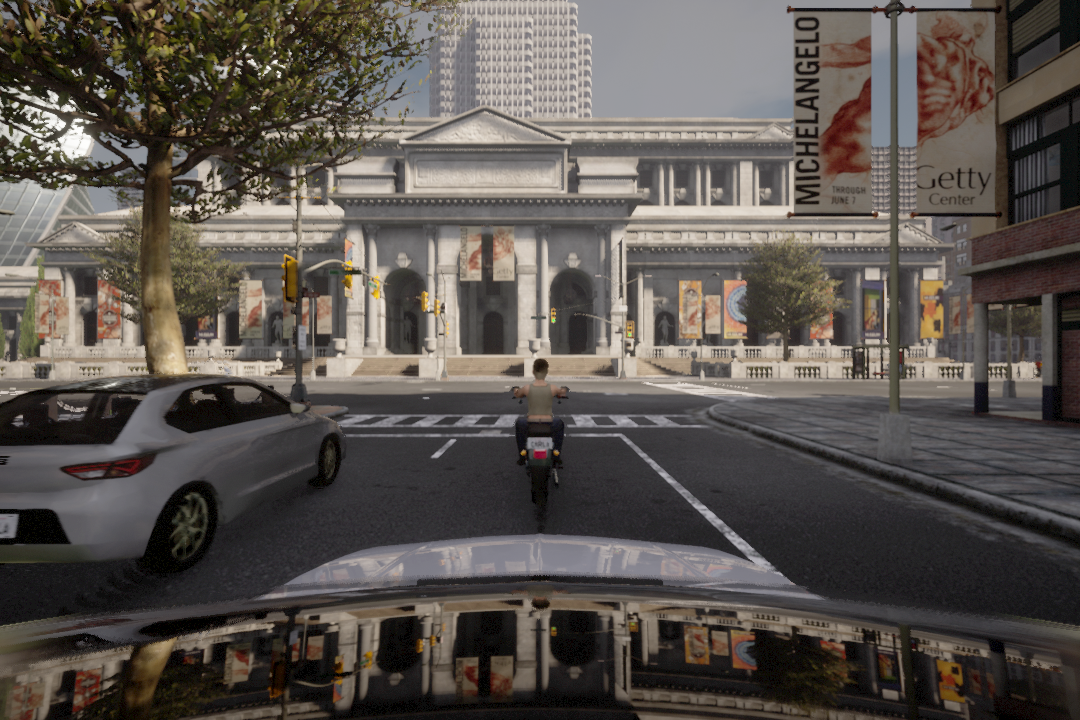TrafficLight: (626, 322, 637, 346), (547, 307, 558, 324)
walkside: (322, 404, 724, 434)
